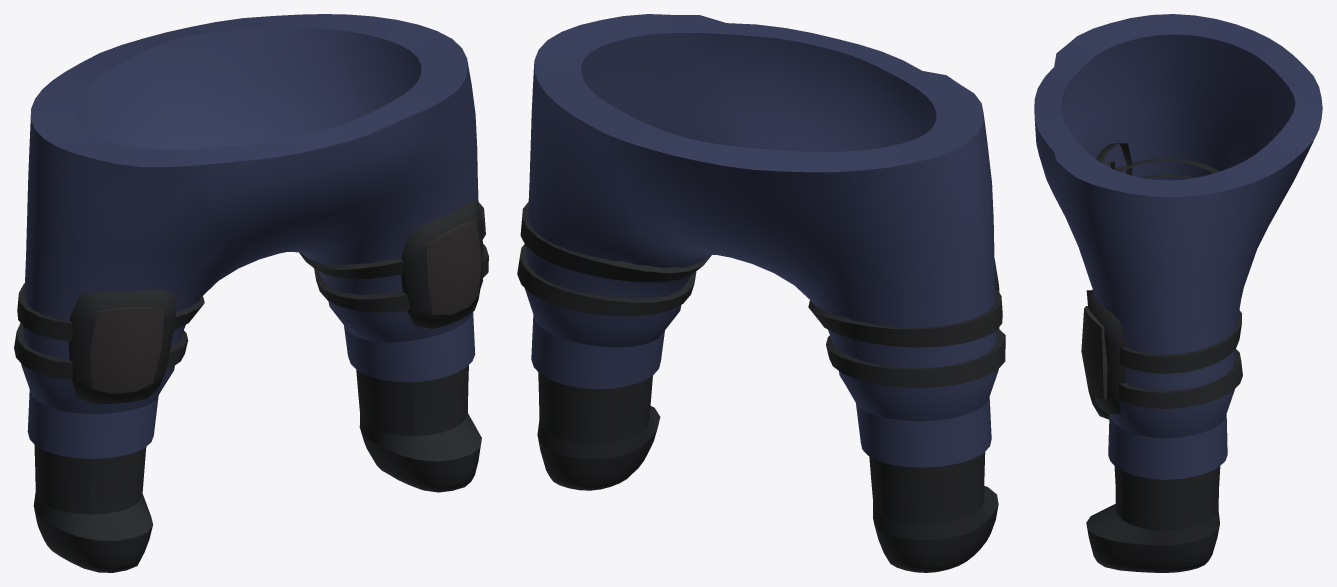
File: 10特警裤.fbx
3 renders of one model, left to right at view 1: azimuth 30°, elevation 25°; view 2: azimuth 150°, elevation 25°; view 3: azimuth 270°, elevation 25°, orthographic. The views are drawn at different scales.
Visible parts, largest first — view 1: 10特警裤; view 2: 10特警裤; view 3: 10特警裤.
Part boxes in pixels (x1,y1,x2,y2): 10特警裤: (14, 14, 488, 572); 10特警裤: (517, 14, 1005, 572); 10特警裤: (1034, 14, 1322, 572).
Size of the model in its own units: 0.6446 by 0.5576 by 0.3833.
